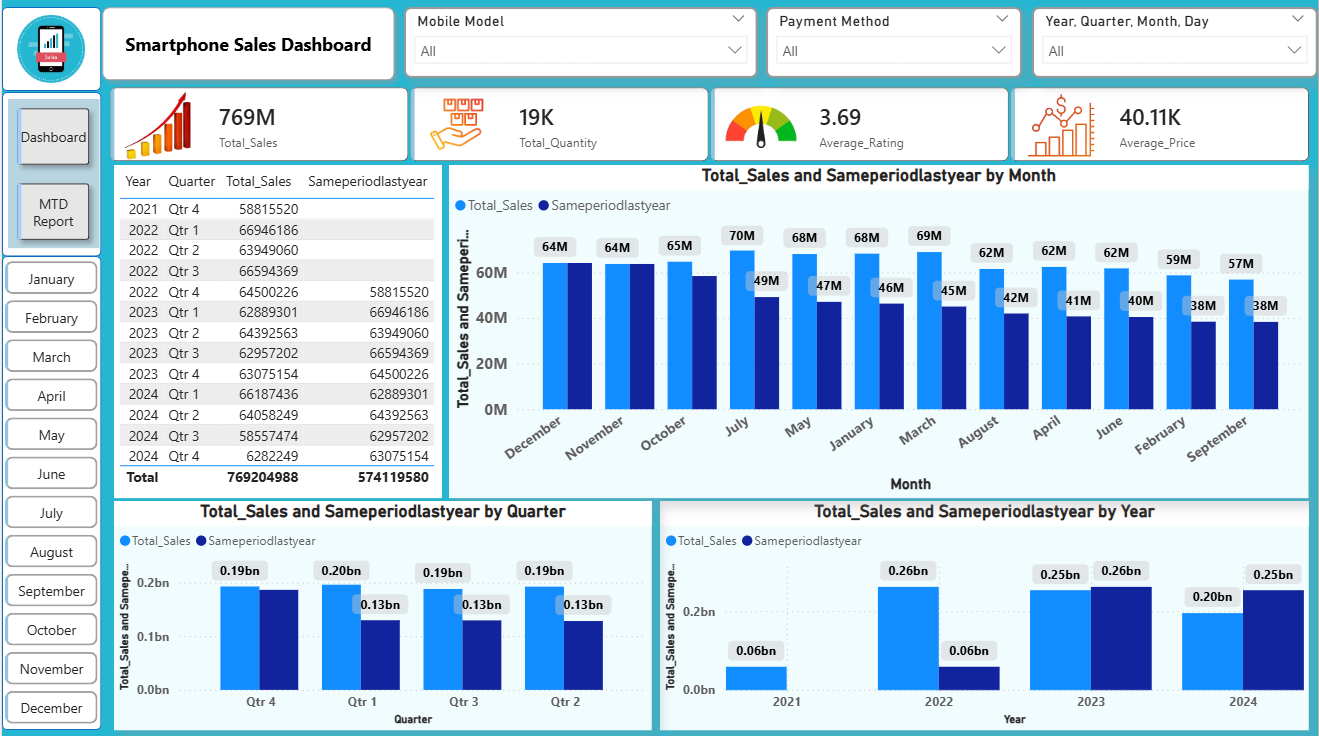

What the dashboard file says about the page in this screenshot:
{"tool":"powerbi","page":{"name":"Sameperiodlastyear","canvas":[1280,720],"ordinal":2},"visuals":[{"type":"shape","box":[0,8.8,96.3,81.7],"z":0},{"type":"image","box":[7.8,16.5,80.7,66.1],"z":1000},{"type":"shape","box":[0,91.1,96.7,160],"z":2000},{"type":"cardVisual","fields":{"Data":["Measure_Table.Total_Sales","Measure_Table.Total_Quantity","Measure_Table.Average_Rating","Measure_Table.Average_Price"]},"box":[96.7,77.8,1184.4,90],"z":3000},{"type":"slicer","fields":{"Values":["Mobile_Sales_Data.Mobile Model"]},"box":[391.1,8.9,344.4,68.9],"z":4000},{"type":"slicer","fields":{"Values":["Mobile_Sales_Data.Payment Method"]},"box":[743.3,8.9,248.9,68.9],"z":5000},{"type":"slicer","fields":{"Values":["Custom_Calendar.Date.Variation.Date Hierarchy.Year","Custom_Calendar.Date.Variation.Date Hierarchy.Quarter","Custom_Calendar.Date.Variation.Date Hierarchy.Month","Custom_Calendar.Date.Variation.Date Hierarchy.Day"]},"box":[1002.2,8.9,277.8,68.9],"z":6000},{"type":"shape","box":[88.9,0,302.2,90],"z":7000},{"type":"clusteredColumnChart","fields":{"Category":["Custom_Calendar.Date.Variation.Date Hierarchy.Year","Custom_Calendar.Date.Variation.Date Hierarchy.Quarter","Custom_Calendar.Date.Variation.Date Hierarchy.Month","Custom_Calendar.Date.Variation.Date Hierarchy.Day"],"Y":["Measure_Table.Total_Sales","Measure_Table.Sameperiodlastyear"]},"box":[640,489.2,631.2,222.7],"z":8000},{"type":"shape","box":[0,251.1,96.7,461.1],"z":9000},{"type":"advancedSlicerVisual","fields":{"Values":["Custom_Calendar.Date.Variation.Date Hierarchy.Month"]},"box":[0,253.3,96.7,466.7],"z":10000},{"type":"tableEx","fields":{"Values":["Custom_Calendar.Date.Variation.Date Hierarchy.Year","Custom_Calendar.Date.Variation.Date Hierarchy.Quarter","Measure_Table.Total_Sales","Measure_Table.Sameperiodlastyear"]},"box":[108.9,162.4,319,323.9],"z":10001},{"type":"clusteredColumnChart","fields":{"Category":["Custom_Calendar.Date.Variation.Date Hierarchy.Year","Custom_Calendar.Date.Variation.Date Hierarchy.Quarter","Custom_Calendar.Date.Variation.Date Hierarchy.Month","Custom_Calendar.Date.Variation.Date Hierarchy.Day"],"Y":["Measure_Table.Total_Sales","Measure_Table.Sameperiodlastyear"]},"box":[434.8,162.4,836.5,323.9],"z":10002},{"type":"clusteredColumnChart","fields":{"Category":["Custom_Calendar.Date.Variation.Date Hierarchy.Year","Custom_Calendar.Date.Variation.Date Hierarchy.Quarter","Custom_Calendar.Date.Variation.Date Hierarchy.Month","Custom_Calendar.Date.Variation.Date Hierarchy.Day"],"Y":["Measure_Table.Total_Sales","Measure_Table.Sameperiodlastyear"]},"box":[108.9,489.2,523.3,222.7],"z":10003},{"type":"pageNavigator","box":[5.8,98.2,88.5,144.9],"z":10004}]}

Visuals, with their boxes in screenshot pixels (x1, y1, x2, y2), scaled from the page's 1280x720 canvas onto the 1319x736 screenshot:
shape: box(0, 9, 99, 93)
image: box(8, 17, 91, 84)
shape: box(0, 93, 100, 257)
cardVisual - Measure_Table.Total_Sales x Measure_Table.Total_Quantity: box(100, 80, 1318, 172)
slicer - Mobile_Sales_Data.Mobile Model: box(403, 9, 758, 80)
slicer - Mobile_Sales_Data.Payment Method: box(766, 9, 1022, 80)
slicer - Custom_Calendar.Date.Variation.Date Hierarchy.Year x Custom_Calendar.Date.Variation.Date Hierarchy.Quarter: box(1033, 9, 1318, 80)
shape: box(92, 0, 403, 92)
clusteredColumnChart - Custom_Calendar.Date.Variation.Date Hierarchy.Year x Custom_Calendar.Date.Variation.Date Hierarchy.Quarter: box(660, 500, 1310, 728)
shape: box(0, 257, 100, 728)
advancedSlicerVisual - Custom_Calendar.Date.Variation.Date Hierarchy.Month: box(0, 259, 100, 735)
tableEx - Custom_Calendar.Date.Variation.Date Hierarchy.Year x Custom_Calendar.Date.Variation.Date Hierarchy.Quarter: box(112, 166, 441, 497)
clusteredColumnChart - Custom_Calendar.Date.Variation.Date Hierarchy.Year x Custom_Calendar.Date.Variation.Date Hierarchy.Quarter: box(448, 166, 1310, 497)
clusteredColumnChart - Custom_Calendar.Date.Variation.Date Hierarchy.Year x Custom_Calendar.Date.Variation.Date Hierarchy.Quarter: box(112, 500, 651, 728)
pageNavigator: box(6, 100, 97, 249)
